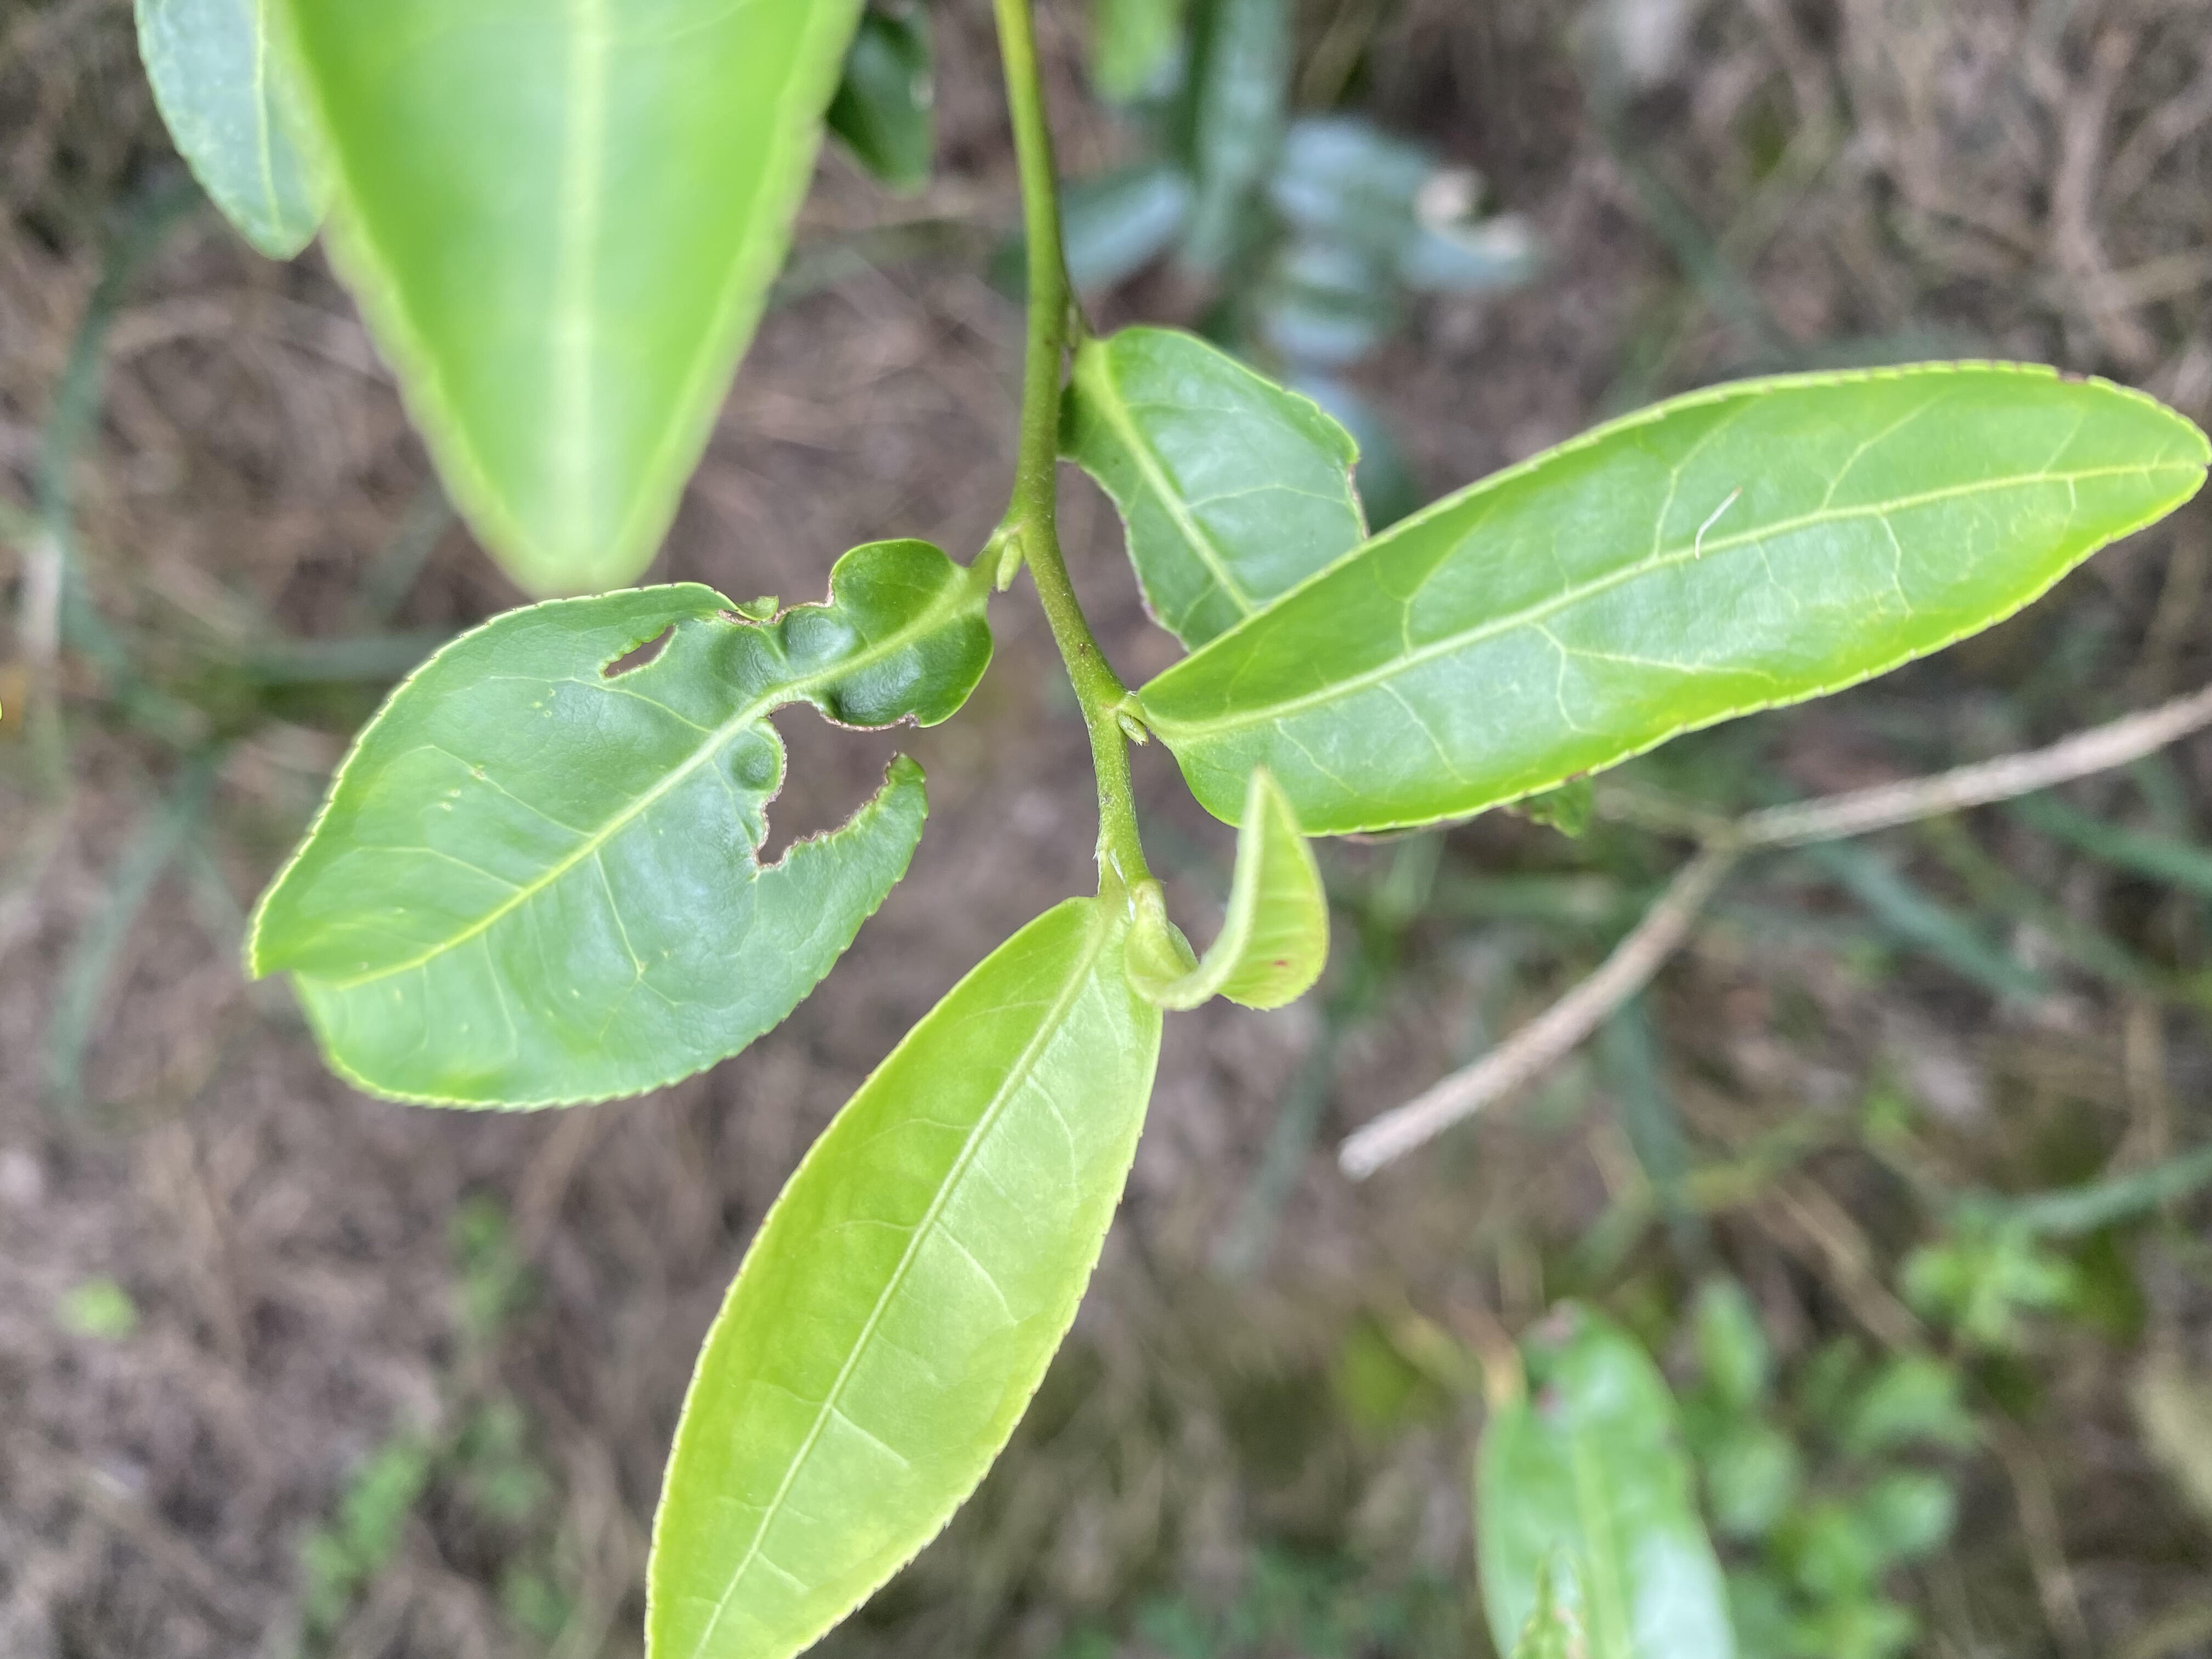chihuo_high: (247, 533, 996, 1115)
healthy: (1139, 362, 2209, 835), (641, 896, 1158, 1656)
